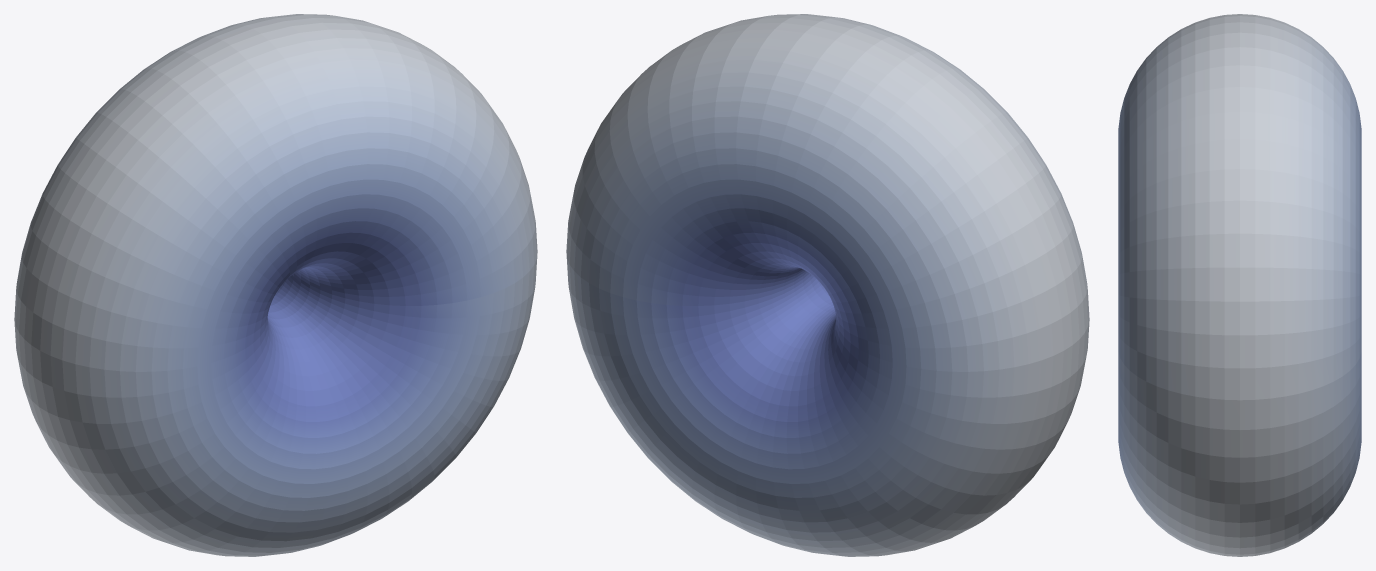
3 renders of one model, left to right at view 1: azimuth 30°, elevation 25°; view 2: azimuth 150°, elevation 25°; view 3: azimuth 270°, elevation 25°, orthographic. The views are drawn at different scales.
Parts seen in each view (by area): view 1: world; view 2: world; view 3: world.
Boxes of the visible parts, box(x1,y1,x2,y2) form: world: box(14, 14, 537, 556); world: box(566, 14, 1089, 556); world: box(1118, 14, 1361, 556).
Size of the model in its own units: 18.13 by 18.1 by 8.12.
